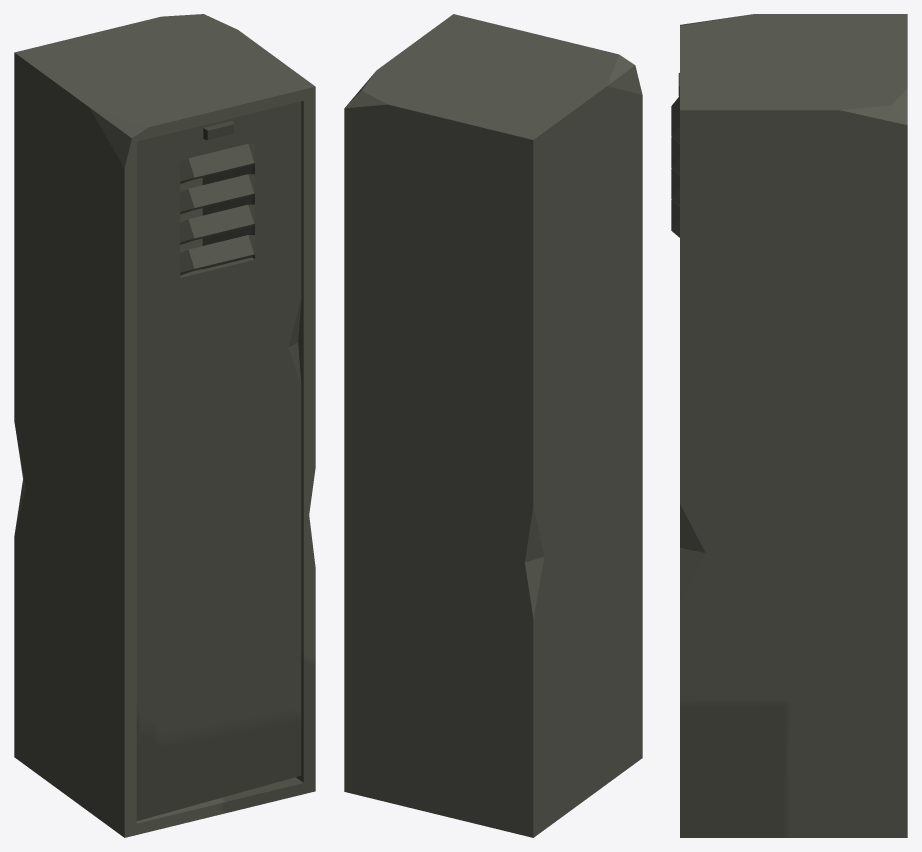
Rendered from SM_Prop_Locker_01.fbx.
3 views of the same model, side by side, from view 1: azimuth 30°, elevation 25°; view 2: azimuth 150°, elevation 25°; view 3: azimuth 270°, elevation 25° (orthographic). The views are drawn at different scales.
Visible parts, largest first — view 1: SM_Prop_Locker_01, SM_Prop_Locker_Door_01; view 2: SM_Prop_Locker_01; view 3: SM_Prop_Locker_01, SM_Prop_Locker_Door_01.
Boxes of the visible parts, box(x1,y1,x2,y2) form: SM_Prop_Locker_01: box(14, 14, 315, 837); SM_Prop_Locker_Door_01: box(136, 101, 301, 820); SM_Prop_Locker_01: box(344, 14, 642, 837); SM_Prop_Locker_01: box(680, 14, 907, 837); SM_Prop_Locker_Door_01: box(671, 73, 679, 237).
Size of the model in its own units: 65.73 by 232 by 68.29.
